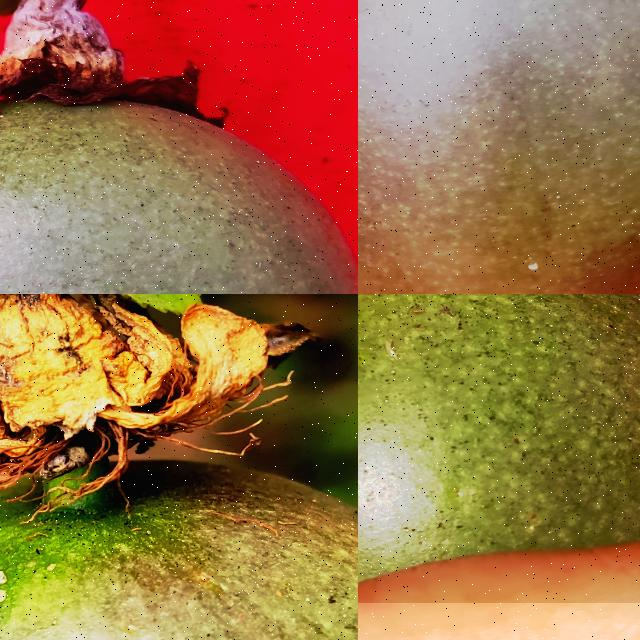Estado-1: (358, 294, 640, 582)
Estado-3: (358, 0, 640, 294)
